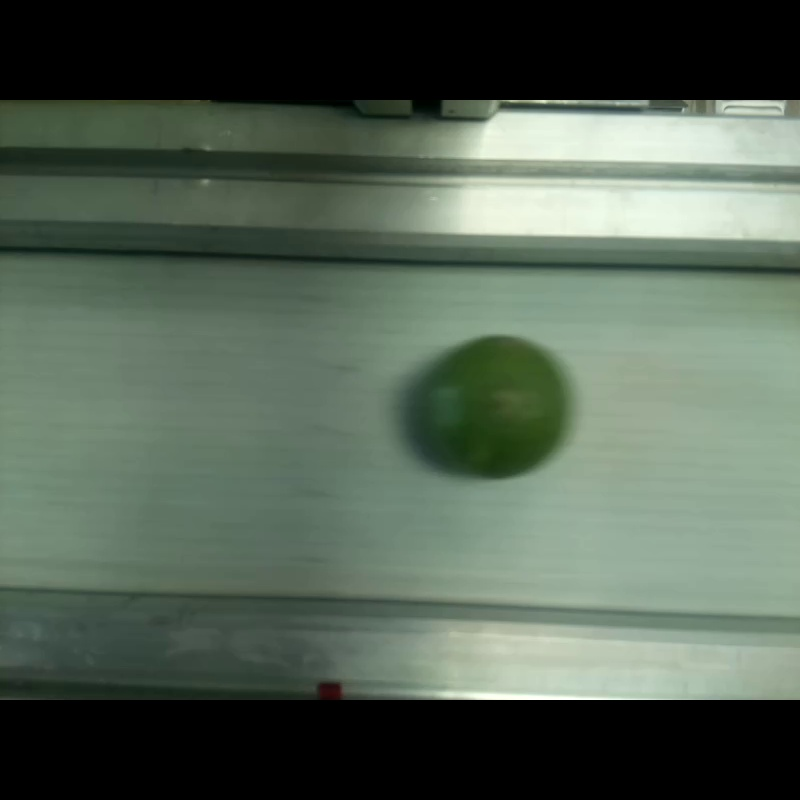lime: (425, 336, 565, 477)
